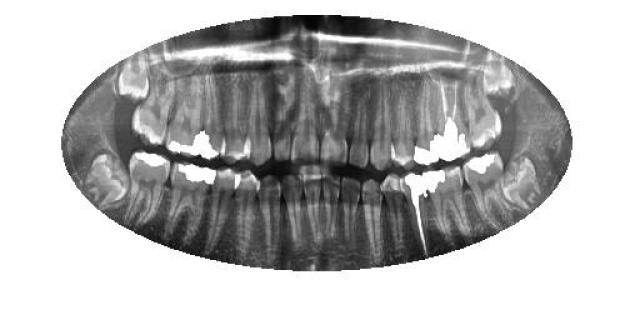Fillings: (164, 159, 216, 246), (122, 150, 170, 228), (462, 154, 514, 226), (422, 161, 468, 240), (166, 73, 204, 158), (412, 75, 438, 166), (201, 74, 224, 161)
Implant: (435, 76, 471, 162), (401, 170, 431, 256)
Restorations: (85, 148, 133, 210), (502, 151, 542, 211), (112, 51, 152, 104)
